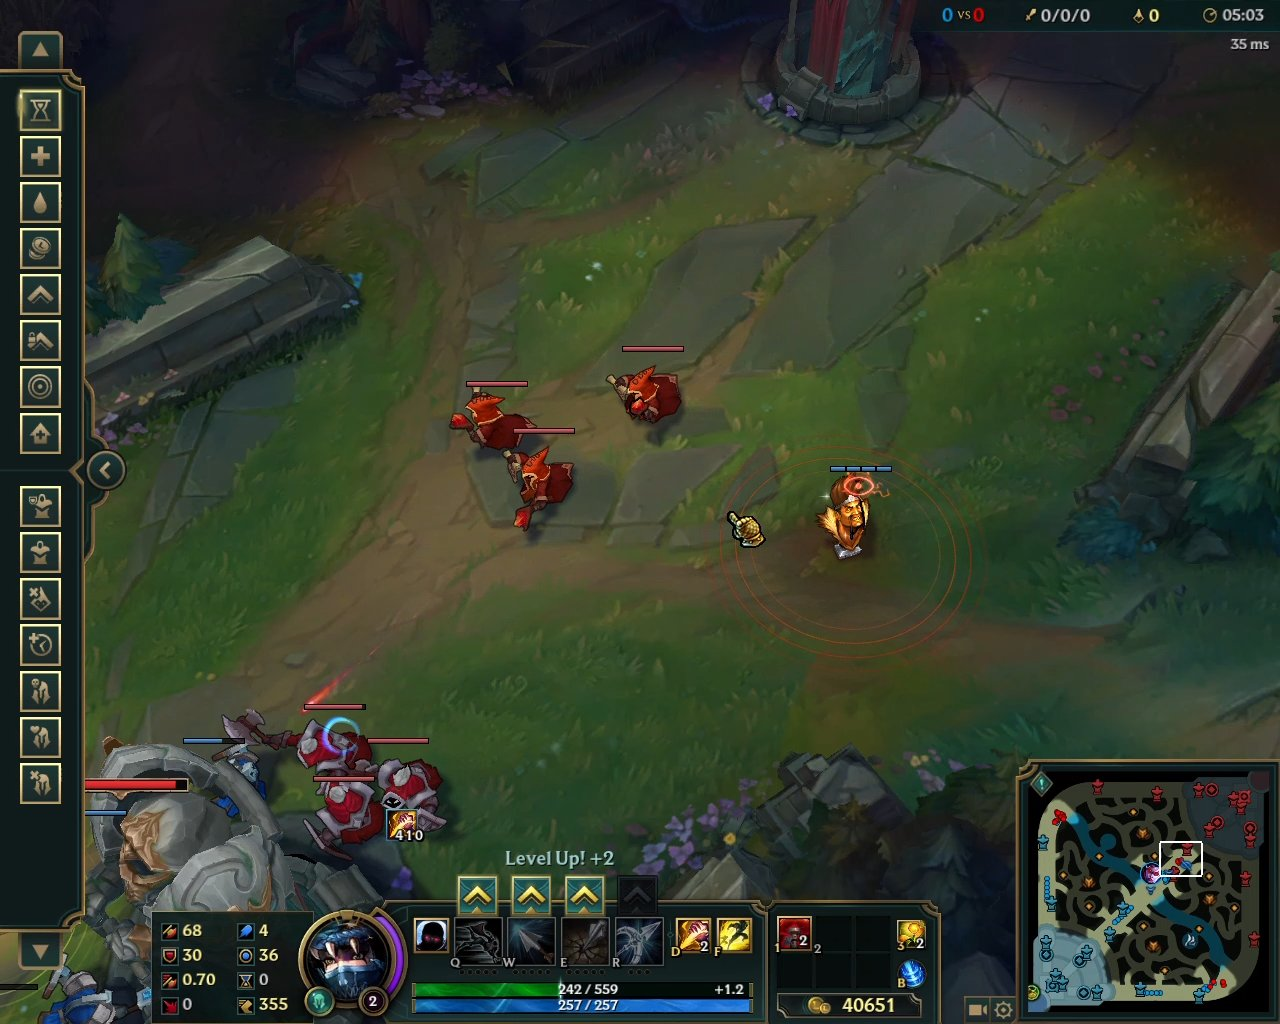EnemyMinion: (223, 702, 365, 782), (493, 426, 579, 536), (364, 735, 447, 839), (601, 346, 686, 428), (448, 379, 532, 456), (305, 775, 374, 862)
